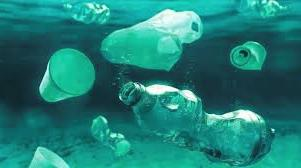Plastic: (107, 76, 279, 160)
Trash: (95, 2, 204, 69)
